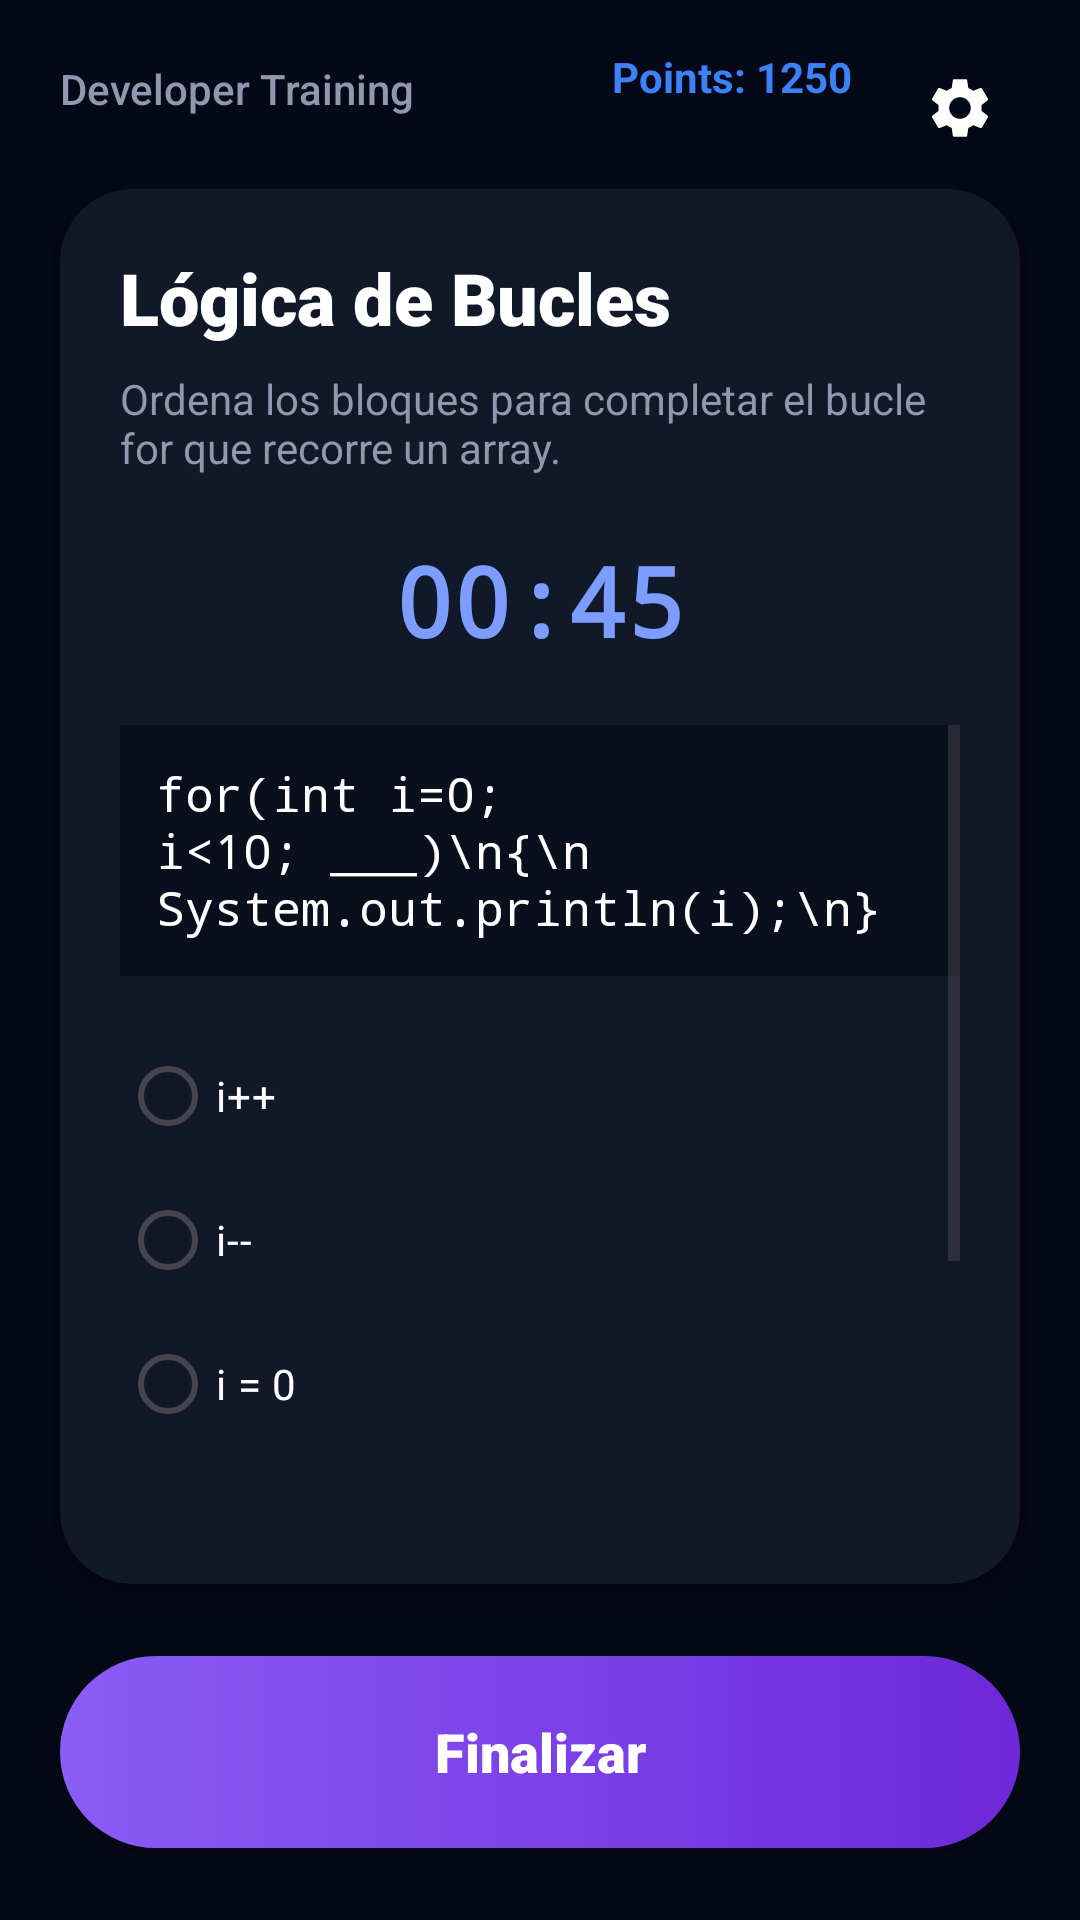

Icons on this 1080px x 1920px Android screen, each with its box as (x1, y1, x2, y2):
settings: (932, 79, 988, 137)
